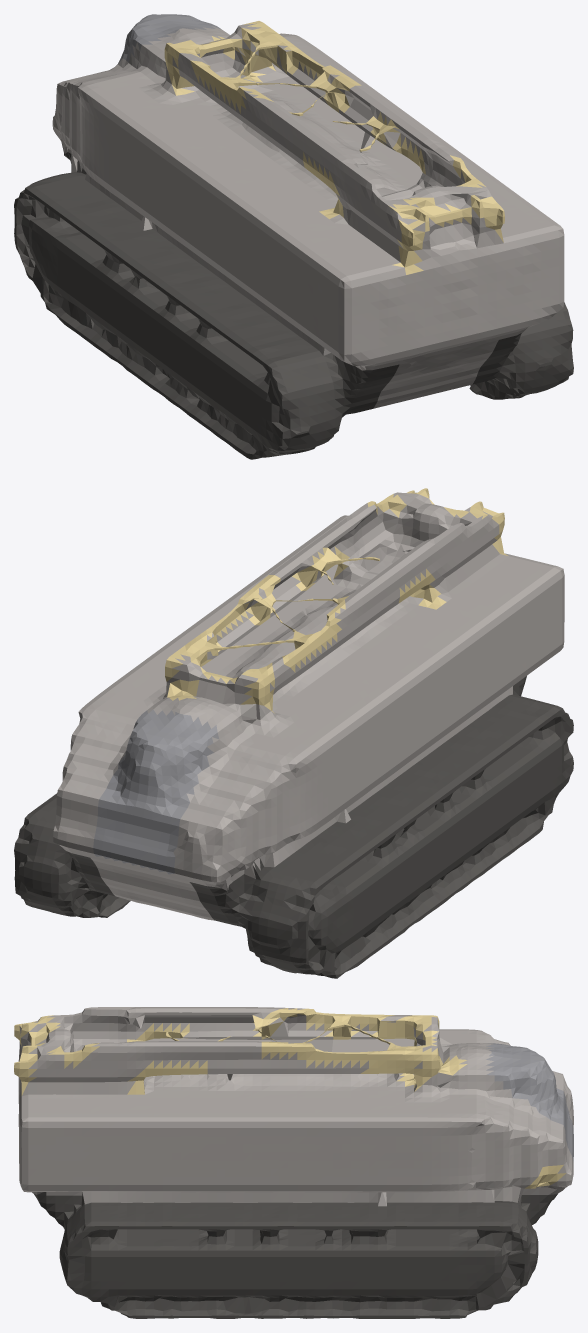
The model's file is unit_keelwright.glb.
3 views of the same model, one above another, from view 1: azimuth 30°, elevation 25°; view 2: azimuth 150°, elevation 25°; view 3: azimuth 270°, elevation 25° (orthographic). The views are drawn at different scales.
Visible parts, largest first — view 1: Mesh_0.064; view 2: Mesh_0.064; view 3: Mesh_0.064.
Boxes of the visible parts, left/top/right/bottom form: Mesh_0.064: left=14, top=14, right=573, bottom=459; Mesh_0.064: left=14, top=488, right=573, bottom=978; Mesh_0.064: left=14, top=1007, right=573, bottom=1318.
Bounding box in the file's own units: 2.31 × 2.03 × 4.4.
